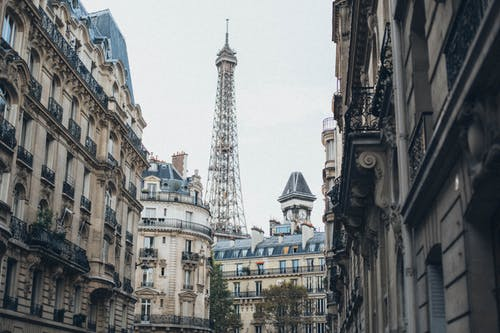eiffel tower: (193, 9, 260, 243)
